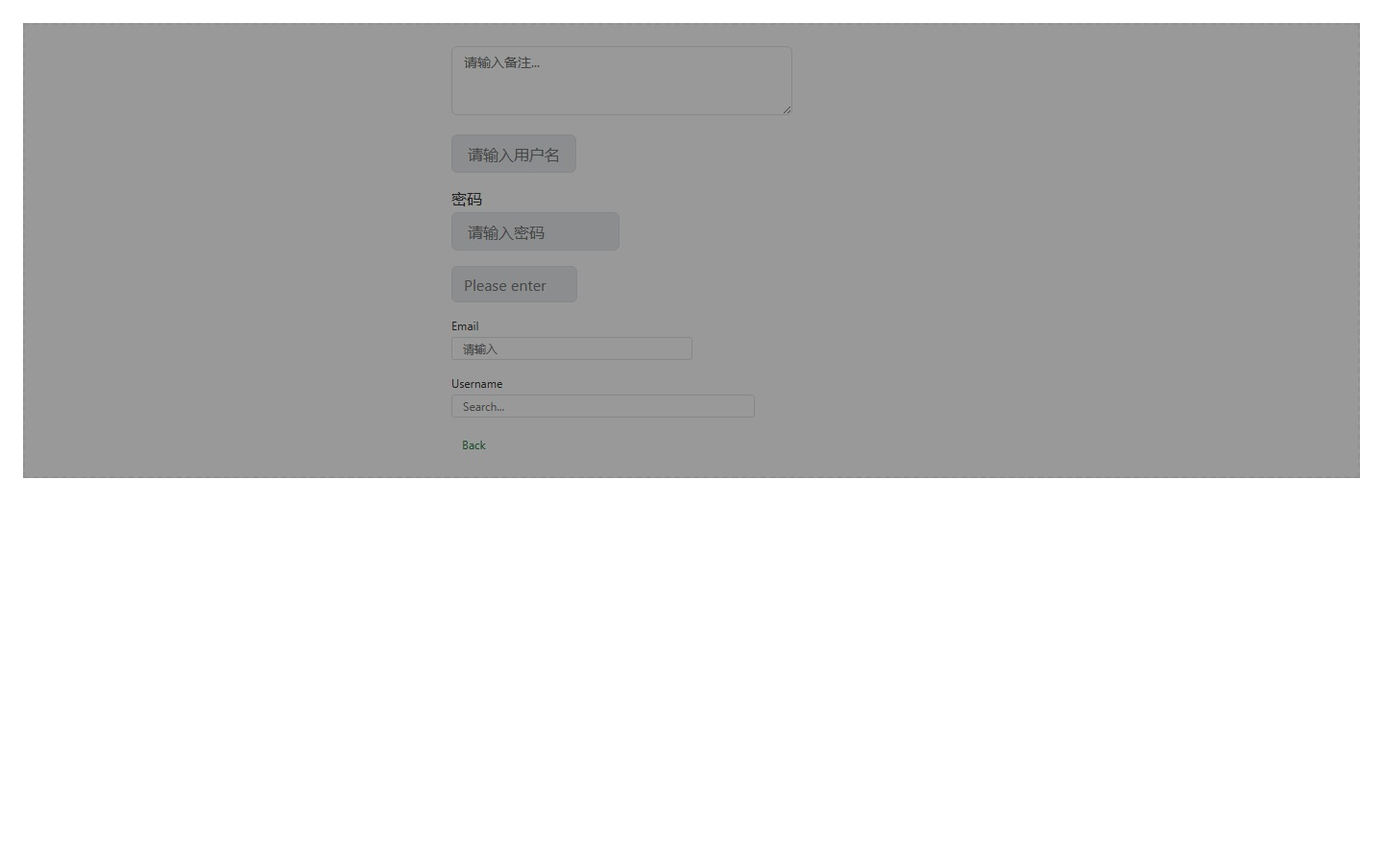button: (451, 434, 496, 455)
input: (451, 395, 755, 418), (451, 212, 619, 251), (451, 337, 692, 360), (451, 134, 576, 173), (451, 266, 577, 302)
modal: (23, 23, 1360, 478)
textarea: (451, 46, 792, 115)
